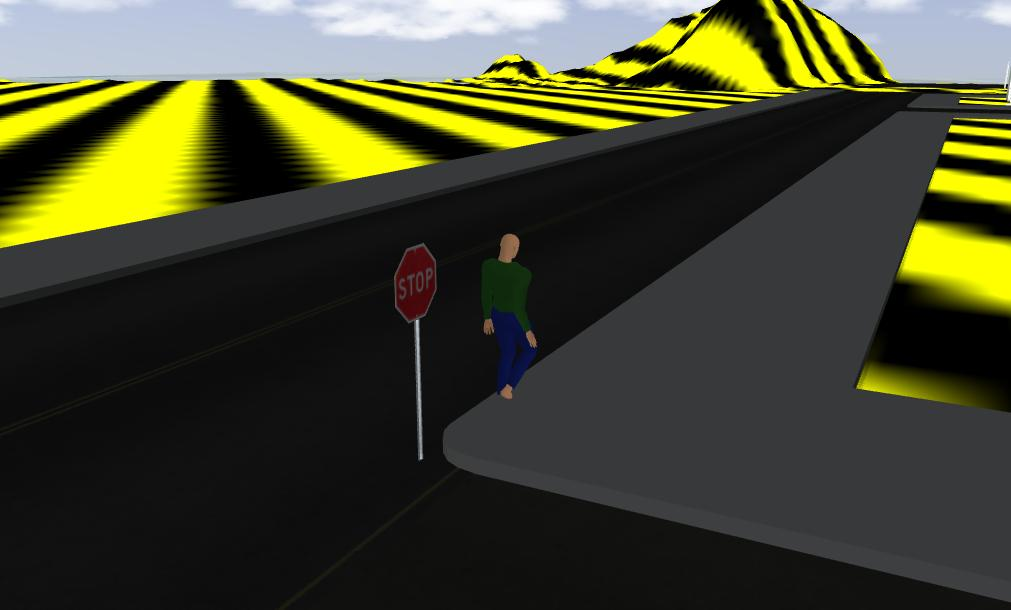human: (478, 223, 548, 409)
street sign: (375, 230, 453, 466)
